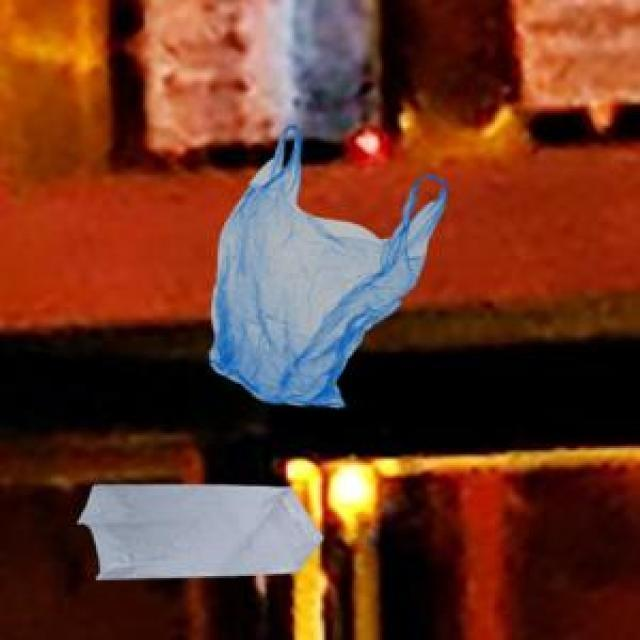waste: (210, 125, 448, 407), (79, 485, 321, 579)
